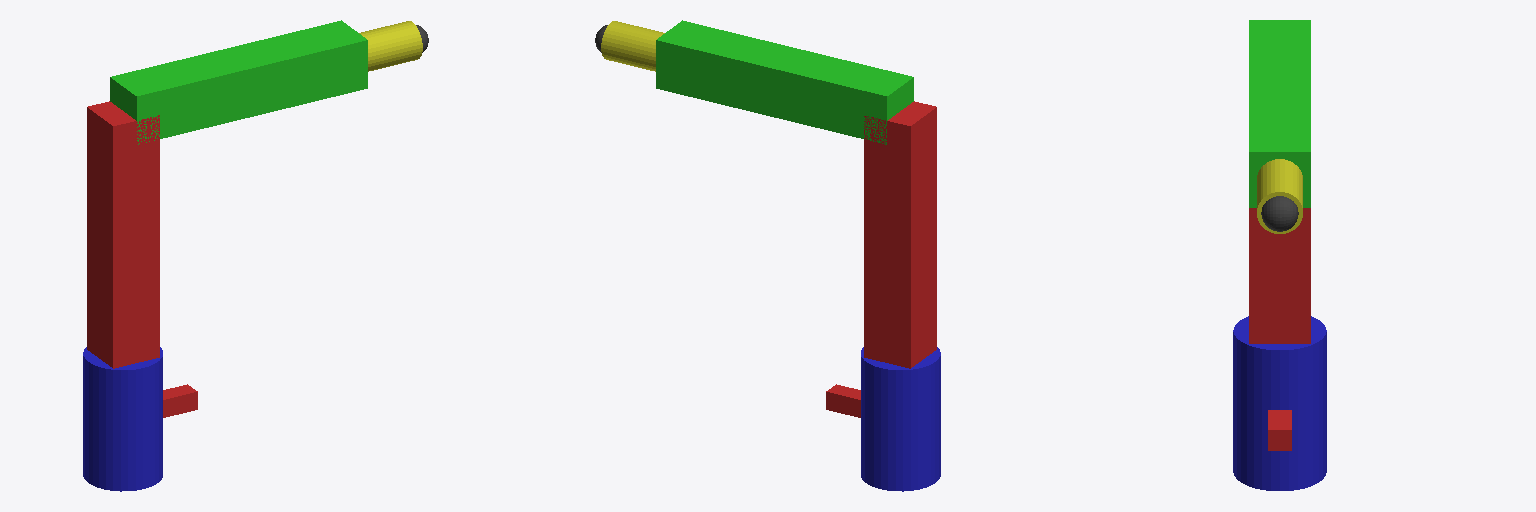
robot.urdf — manipulador_dh_3dof:
<?xml version="1.0"?>
<robot name="manipulador_dh_3dof">

  <!-- ===================== Colores ===================== -->
  <material name="blue"><color rgba="0.2 0.2 0.8 1"/></material>
  <material name="red"><color rgba="0.8 0.2 0.2 1"/></material>
  <material name="green"><color rgba="0.2 0.8 0.2 1"/></material>
  <material name="yellow"><color rgba="0.8 0.8 0.2 1"/></material>
  <material name="grey"><color rgba="0.3 0.3 0.3 1"/></material>

  <!-- ===================== Mundo ===================== -->
  <link name="world"/>

  <!-- =========================================================
       FILA 1 DH: theta1 (variable), d1=0.10, a1=0, alpha1=90°
       joint1 = base, rota sobre Z, sube d1=10cm
       ========================================================= -->
  <joint name="joint1_base" type="revolute">
    <parent link="world"/>
    <child link="link1"/>
    <origin xyz="0 0 0.10" rpy="0 0 0"/>
    <axis xyz="0 0 1"/>
    <limit lower="-3.1416" upper="3.1416" effort="10" velocity="1"/>
  </joint>

  <link name="link1">
    <!-- Columna de base: cuelga desde el origen del link (altura 10cm) hasta el suelo -->
    <visual>
      <origin xyz="0 0 -0.05" rpy="0 0 0"/>
      <geometry>
        <cylinder radius="0.03" length="0.10"/>
      </geometry>
      <material name="blue"/>
    </visual>
    <!-- Marca roja para verificar visualmente la rotación de theta1 -->
    <visual>
      <origin xyz="0.045 0 -0.05" rpy="0 0 0"/>
      <geometry>
        <box size="0.03 0.015 0.015"/>
      </geometry>
      <material name="red"/>
    </visual>
  </link>

  <!-- =========================================================
       FILA 2 DH: theta2+90° (variable), d2=0, a2=0.20, alpha2=0
       El +90° y el twist alpha1=90° (heredado de la fila 1) se
       incorporan en el origen fijo de este joint.
       ========================================================= -->
  <joint name="joint2_shoulder" type="revolute">
    <parent link="link1"/>
    <child link="link2"/>
    <origin xyz="0 0 0" rpy="1.5707963 -1.5707963 0"/>
    <axis xyz="0 0 1"/>
    <limit lower="-3.1416" upper="3.1416" effort="10" velocity="1"/>
  </joint>

  <link name="link2">
    <!-- Eslabón de 20cm (a2) -->
    <visual>
      <origin xyz="0.10 0 0" rpy="0 0 0"/>
      <geometry>
        <box size="0.20 0.04 0.04"/>
      </geometry>
      <material name="red"/>
    </visual>
  </link>

  <!-- =========================================================
       FILA 3 DH: theta3-90° (variable), d3=0, a3=0.20, alpha3=0
       El -90° y a2=0.20 (heredado de la fila 2) se incorporan
       en el origen fijo de este joint.
       ========================================================= -->
  <joint name="joint3_elbow" type="revolute">
    <parent link="link2"/>
    <child link="link3"/>
    <origin xyz="0.20 0 0" rpy="0 0 -1.5707963"/>
    <axis xyz="0 0 1"/>
    <limit lower="-3.1416" upper="3.1416" effort="10" velocity="1"/>
  </joint>

  <link name="link3">
    <!-- Eslabón de 20cm (a3) -->
    <visual>
      <origin xyz="0.10 0 0" rpy="0 0 0"/>
      <geometry>
        <box size="0.20 0.04 0.04"/>
      </geometry>
      <material name="green"/>
    </visual>
  </link>

  <!-- =========================================================
       FILA 4 DH: theta4=0 (constante), d4=0, a4=0.05, alpha4=0
       Sin variable -> junta FIJA (montaje de herramienta).
       a3=0.20 (heredado de la fila 3) se incorpora en el origen.
       ========================================================= -->
  <joint name="joint4_tool_mount" type="fixed">
    <parent link="link3"/>
    <child link="link4"/>
    <origin xyz="0.20 0 0" rpy="0 0 0"/>
  </joint>

  <link name="link4">
    <!-- Herramienta fija de 5cm (a4) -->
    <visual>
      <origin xyz="0.025 0 0" rpy="0 1.5707963 0"/>
      <geometry>
        <cylinder radius="0.015" length="0.05"/>
      </geometry>
      <material name="yellow"/>
    </visual>
  </link>

  <!-- =========================================================
       LINK DEL EFECTOR FINAL (punta de la herramienta)
       Ubicado en la punta de link4 (extremo de los 5cm, a4).
       No aporta geometría al DH, es solo un frame + marcador
       visual para poder ver el punto TCP (Tool Center Point)
       y leer sus coordenadas en RViz.
       ========================================================= -->
  <joint name="joint5_end_effector" type="fixed">
    <parent link="link4"/>
    <child link="end_effector"/>
    <origin xyz="0.05 0 0" rpy="0 0 0"/>
  </joint>

  <link name="end_effector">
    <visual>
      <origin xyz="0 0 0" rpy="0 0 0"/>
      <geometry>
        <sphere radius="0.012"/>
      </geometry>
      <material name="grey"/>
    </visual>
  </link>

</robot>

--- What the picture shows (computed from the rendered views, not written in the file) ---
3 views of the same robot in one strip: view 1: azimuth 30°, elevation 25°; view 2: azimuth 150°, elevation 25°; view 3: azimuth 270°, elevation 25° (orthographic).
Model manipulador_dh_3dof with 6 links and 5 joints (3 revolute, 2 fixed), rooted at world, posed every joint at zero.
Links seen in each view (by area): view 1: link2, link3, link1, link4; view 2: link2, link3, link1, link4; view 3: link1, link3, link2, link4, end_effector.
Link boxes in pixels (x1,y1,x2,y2): link2: (87, 101, 159, 368); link3: (110, 20, 367, 144); link1: (83, 347, 197, 491); link4: (359, 21, 422, 71); link2: (864, 101, 936, 368); link3: (656, 20, 913, 144); link1: (826, 347, 940, 491); link4: (601, 21, 664, 71); link1: (1233, 316, 1326, 490); link3: (1249, 20, 1310, 207); link2: (1249, 208, 1310, 343); link4: (1257, 159, 1302, 233); end_effector: (1261, 196, 1298, 231).
Bounding box of the posed robot: 0.292 × 0.06 × 0.32 m (x, y, z).
Geometry: primitives only (box / cylinder / sphere), no mesh files.
